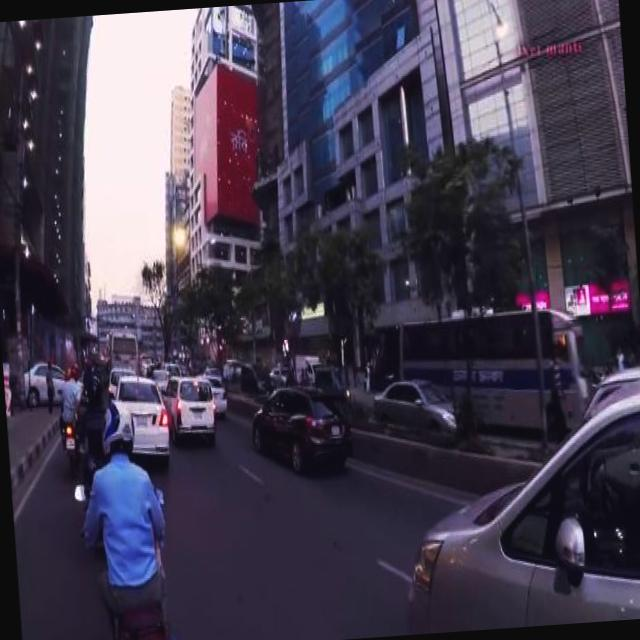bus: (394, 302, 587, 430), (104, 325, 139, 370)
car: (246, 380, 354, 476), (369, 372, 456, 435), (111, 368, 169, 457), (159, 372, 216, 442), (19, 355, 63, 402), (207, 369, 226, 411)
motorcycle: (71, 475, 172, 640), (58, 410, 78, 462)
truck: (394, 378, 640, 629), (292, 348, 320, 380)
